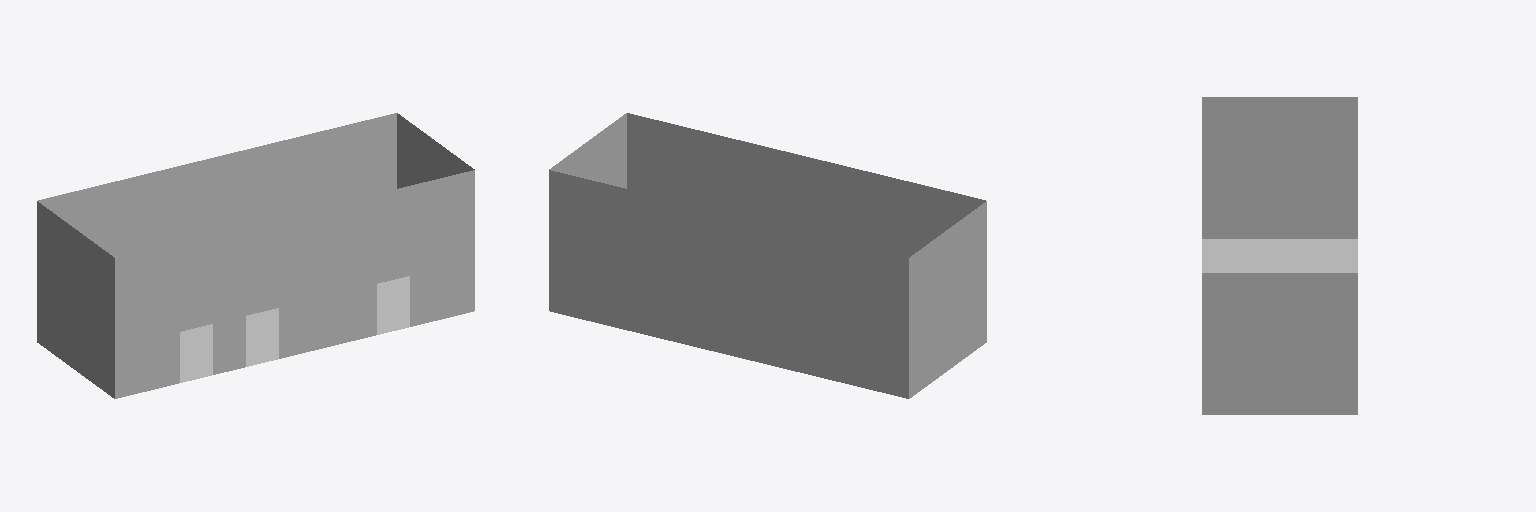
File: Corridoor.obj
3 views of the same model, side by side, from view 1: azimuth 30°, elevation 25°; view 2: azimuth 150°, elevation 25°; view 3: azimuth 270°, elevation 25° (orthographic).
Parts seen in each view (by area): view 1: Plane; view 2: Plane; view 3: Plane.
Boxes of the visible parts, box(x1,y1,x2,y2) form: Plane: box(37, 113, 474, 398); Plane: box(549, 113, 986, 398); Plane: box(1202, 97, 1357, 414).
Bounding box in the file's own units: 8 × 3 × 3.